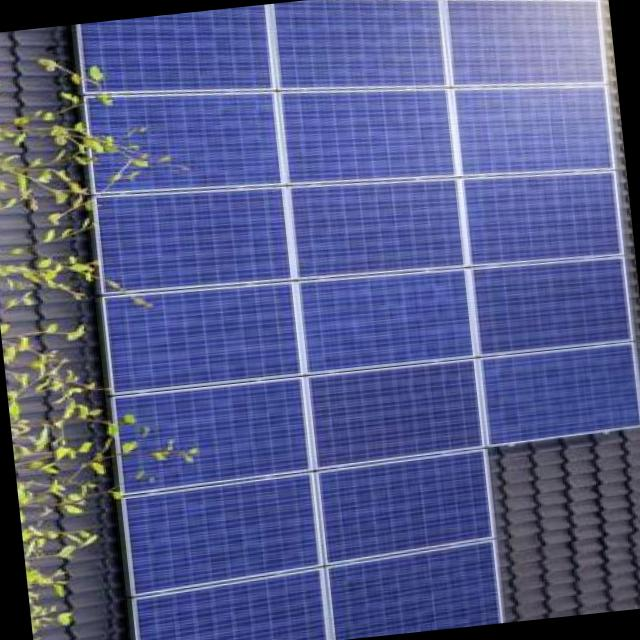no faulty: (187, 0, 640, 463)
